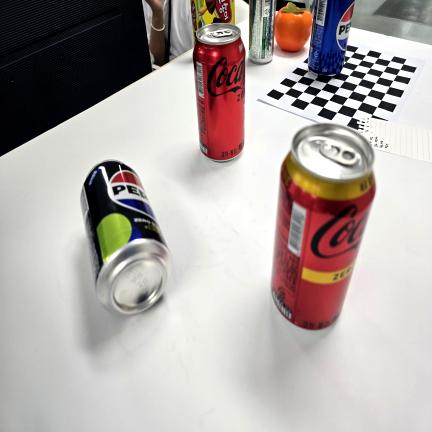can_coke_decaf: (267, 120, 377, 334)
can_coke_zero: (193, 22, 246, 164)
can_pepsi_zero: (78, 158, 170, 317)
